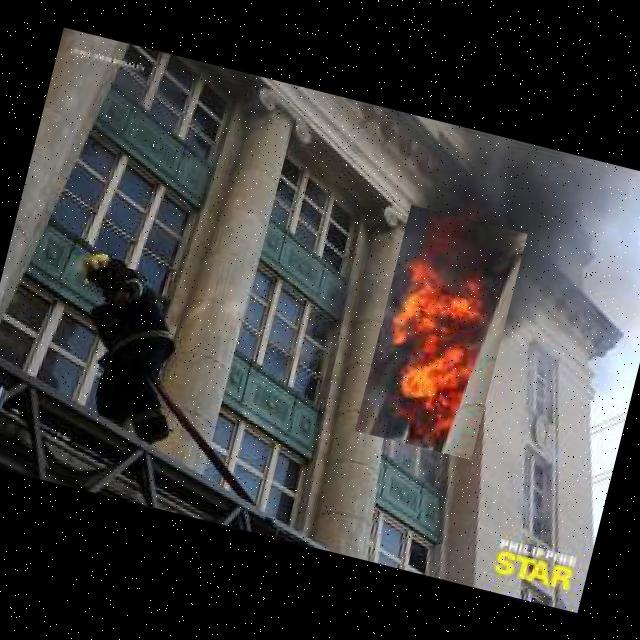fire: (354, 205, 527, 460)
